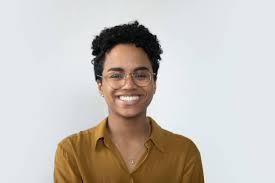sunglasses: (102, 68, 155, 90)
